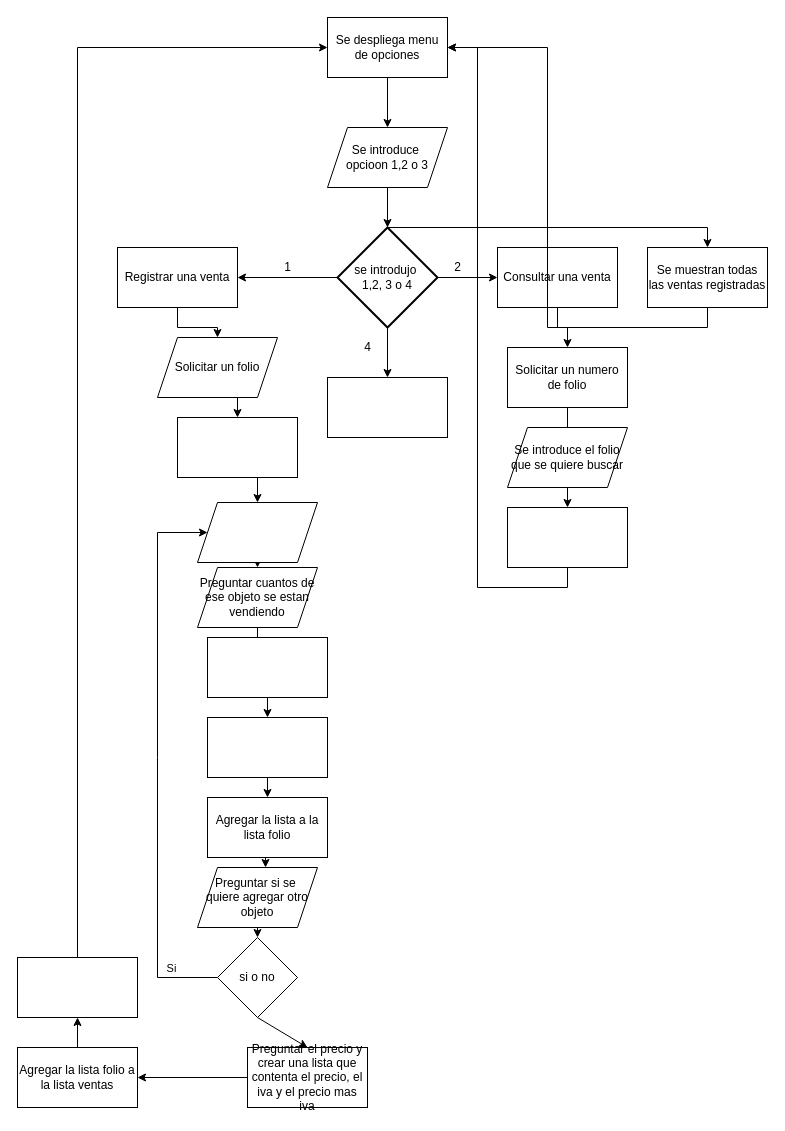
Some shapes in this 785 by 1131 pixel diagram are drawn without their labels. Each missing label, with the box of its shape:
agregar el objeto y la cantidad a la lista: (206, 716, 328, 778)
Crear una lista que lleve como nombre el folio: (176, 416, 298, 478)
Crear una lista que lleve de nombre el objeto que se vendio: (206, 636, 328, 698)
Guardar los datos en un archivo CSV: (16, 956, 138, 1018)
Preguntar que objeto se esta vendiendo: (196, 502, 318, 562)
Salir: (326, 376, 448, 438)
Se imprime la lista con el folio que se introdujo: (506, 506, 628, 568)
